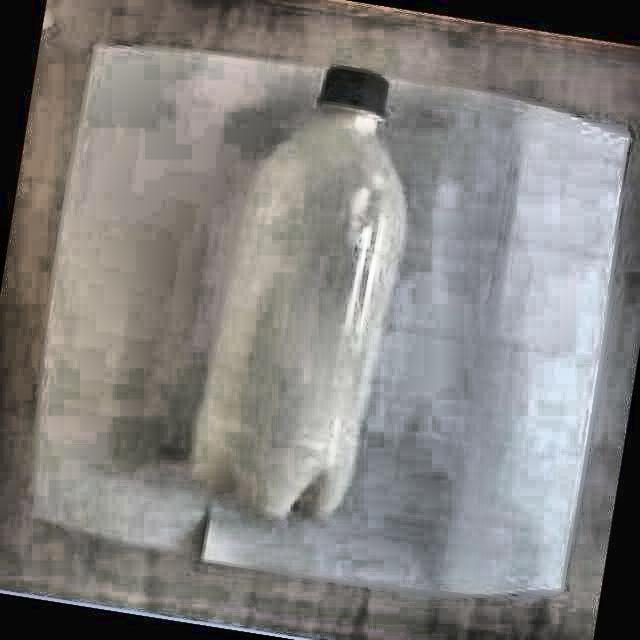plastic bottle: (194, 67, 406, 518)
